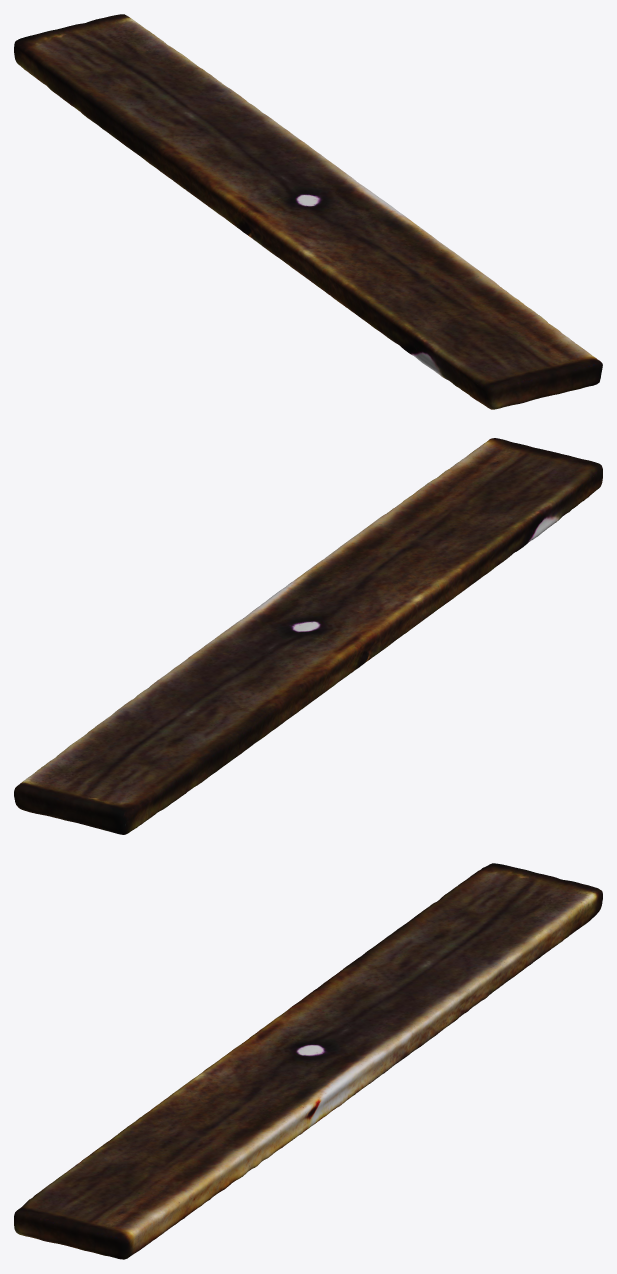
Rendered from ae6e26366068_realistic_plank_min.fbx.
3 views of the same model, one above another, from view 1: azimuth 30°, elevation 25°; view 2: azimuth 150°, elevation 25°; view 3: azimuth 330°, elevation 25° (orthographic).
Visible parts, largest first — view 1: high_poly; view 2: high_poly; view 3: high_poly.
Boxes of the visible parts, x1,y1,x2,y2 form: high_poly: (14, 14, 602, 409); high_poly: (14, 438, 602, 834); high_poly: (14, 863, 602, 1259).
Size of the model in its own units: 14.28 by 3.02 by 100.
